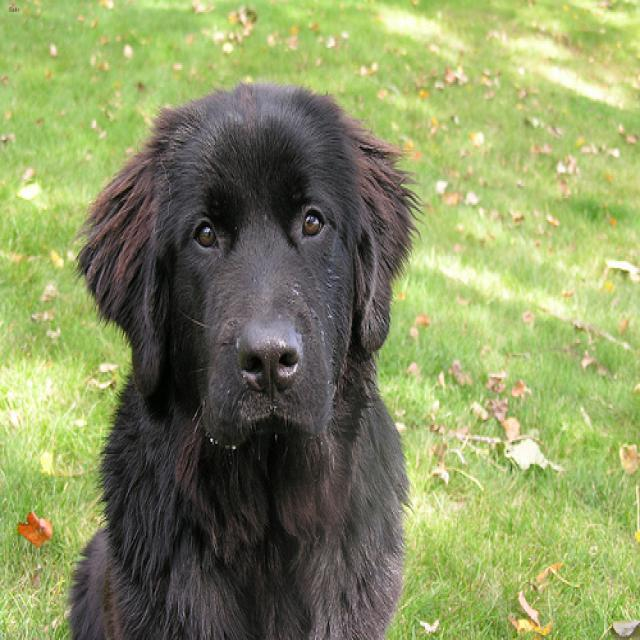dog-newfoundland: (50, 77, 434, 637)
